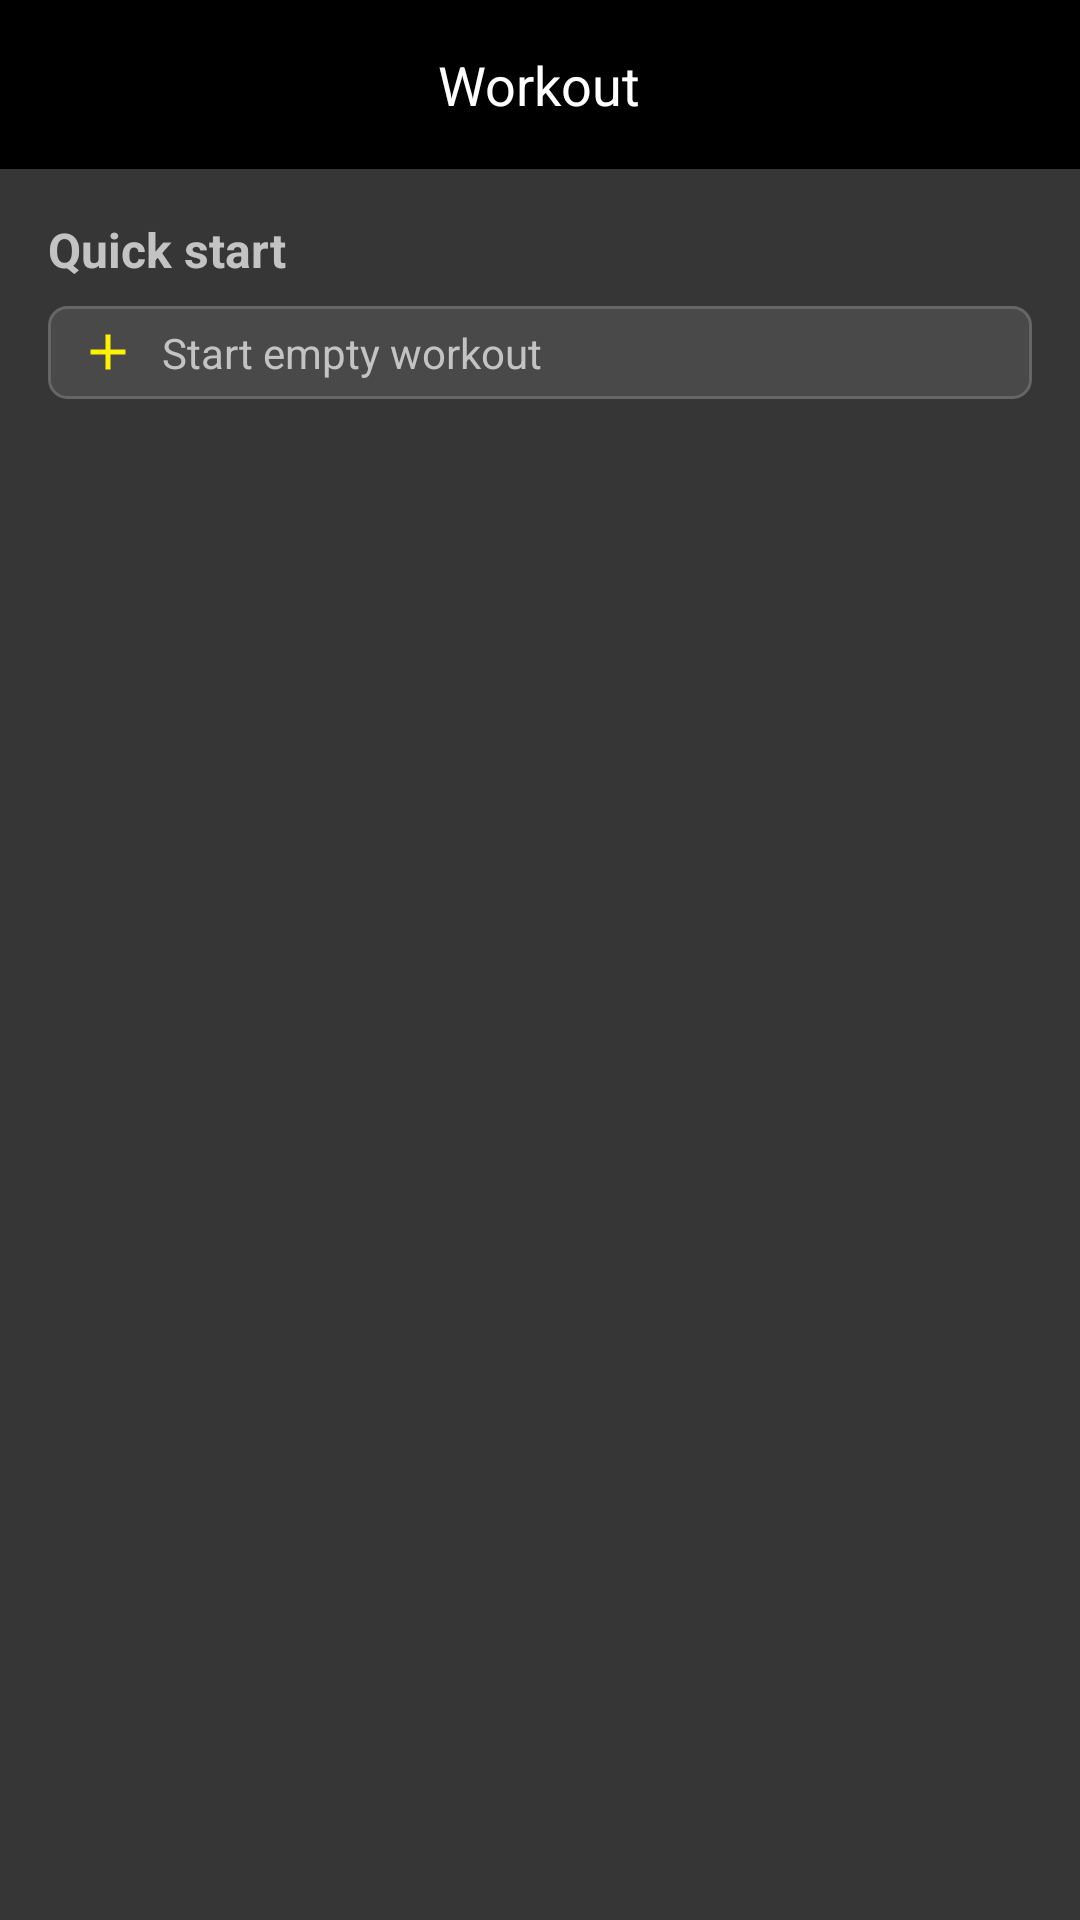

Icon click points for this 1080x1920 phone screenshot, format point (x, y):
add: point (108, 352)
